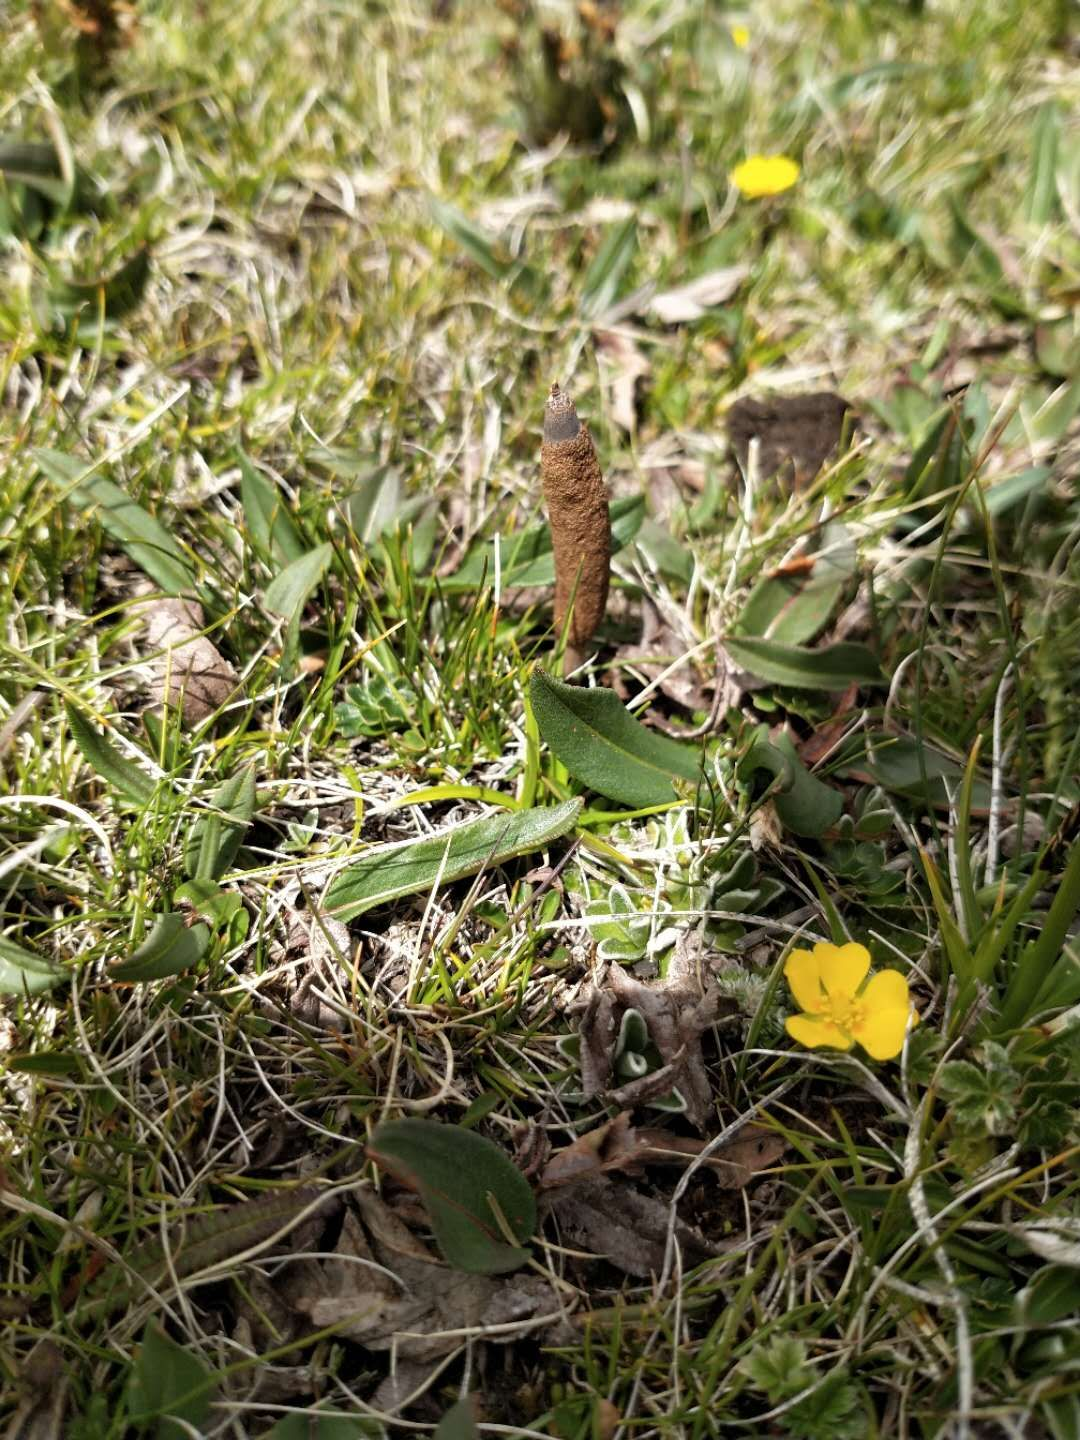Chongcao: (539, 378, 610, 670)
